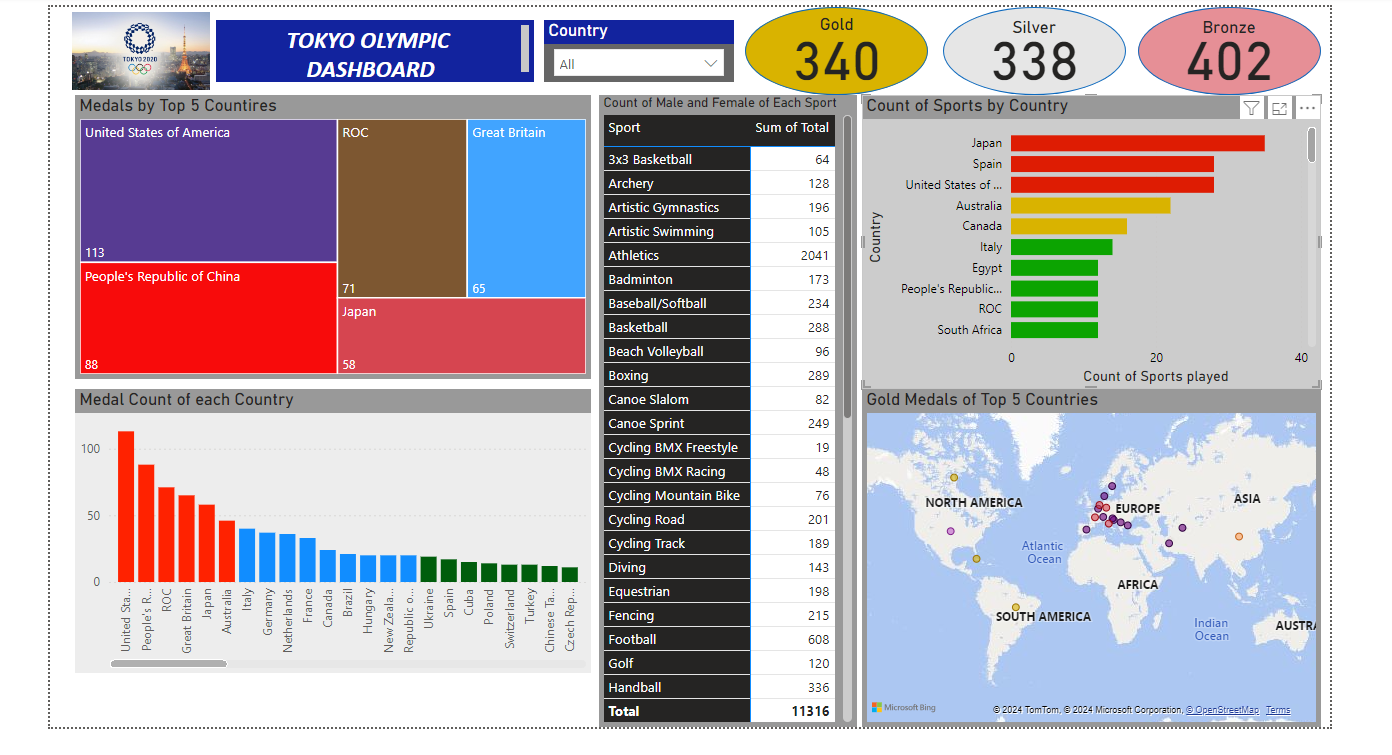

The page's visual inventory and layout, read from the dashboard file:
{"tool":"powerbi","page":{"name":"Page 1","canvas":[1280,720],"ordinal":0},"visuals":[{"type":"slicer","title":"Country","fields":{"Values":["Teams.Country"]},"box":[493.6,13,190.9,62],"z":0},{"type":"image","box":[0,0,181.9,87.9],"z":1000},{"type":"shape","box":[695.5,0,182.9,87.9],"z":2000},{"type":"shape","box":[893.3,0,182.9,87.9],"z":3000},{"type":"shape","box":[1088.1,0,182.9,87.9],"z":4000},{"type":"textbox","box":[165.9,13,317.8,62],"z":5000},{"type":"card","title":"Gold","fields":{"Values":["Medals.TotalGold"]},"box":[737.4,7,99.9,80.9],"z":6000},{"type":"card","title":"Silver","fields":{"Values":["Medals.TotalSilver"]},"box":[913.3,10,142.9,74.9],"z":7000},{"type":"card","title":"Bronze","fields":{"Values":["Medals.TotalBronze"]},"box":[1120.1,10,118.9,74.9],"z":8000},{"type":"treemap","fields":{"Group":["Medals.TeamCountry"],"Values":["Medals.RowTotalMeasure"]},"box":[25,87.9,515.6,283.8],"z":9000},{"type":"columnChart","title":"Medal Count of each Country","fields":{"Category":["Medals.TeamCountry"],"Y":["Medals.RowTotalMeasure"]},"box":[25,382,516,284],"z":10000},{"type":"pivotTable","title":"Count of Male and Female of Each Sport","fields":{"Rows":["EntriesGender.Discipline"],"Values":["Sum(EntriesGender.Total)"]},"box":[548.6,87.9,258.8,632.5],"z":11000},{"type":"clusteredBarChart","title":"Count of Sports by Country","fields":{"Category":["Coaches.Country"],"Y":["CountNonNull(Coaches.Discipline)"]},"box":[812,88,459,294],"z":11001},{"type":"map","title":"Gold Medals of Top 5 Countries","fields":{"Category":["Medals.TeamCountry"],"Series":["Medals.Gold"]},"box":[812,382,459,338],"z":11002}]}

Visuals, with their boxes in screenshot pixels (x1, y1, x2, y2):
"Country" slicer: x1=542 y1=17 x2=733 y2=78
image: x1=51 y1=4 x2=232 y2=91
shape: x1=744 y1=4 x2=926 y2=91
shape: x1=941 y1=4 x2=1123 y2=91
shape: x1=1135 y1=4 x2=1317 y2=91
textbox: x1=216 y1=17 x2=533 y2=78
"Gold" card: x1=785 y1=11 x2=885 y2=91
"Silver" card: x1=961 y1=14 x2=1103 y2=88
"Bronze" card: x1=1167 y1=14 x2=1285 y2=88
treemap - Medals.TeamCountry x Medals.RowTotalMeasure: x1=76 y1=91 x2=589 y2=374
"Medal Count of each Country" columnChart: x1=76 y1=384 x2=590 y2=667
"Count of Male and Female of Each Sport" pivotTable: x1=597 y1=91 x2=855 y2=721
"Count of Sports by Country" clusteredBarChart: x1=860 y1=91 x2=1317 y2=384
"Gold Medals of Top 5 Countries" map: x1=860 y1=384 x2=1317 y2=721
